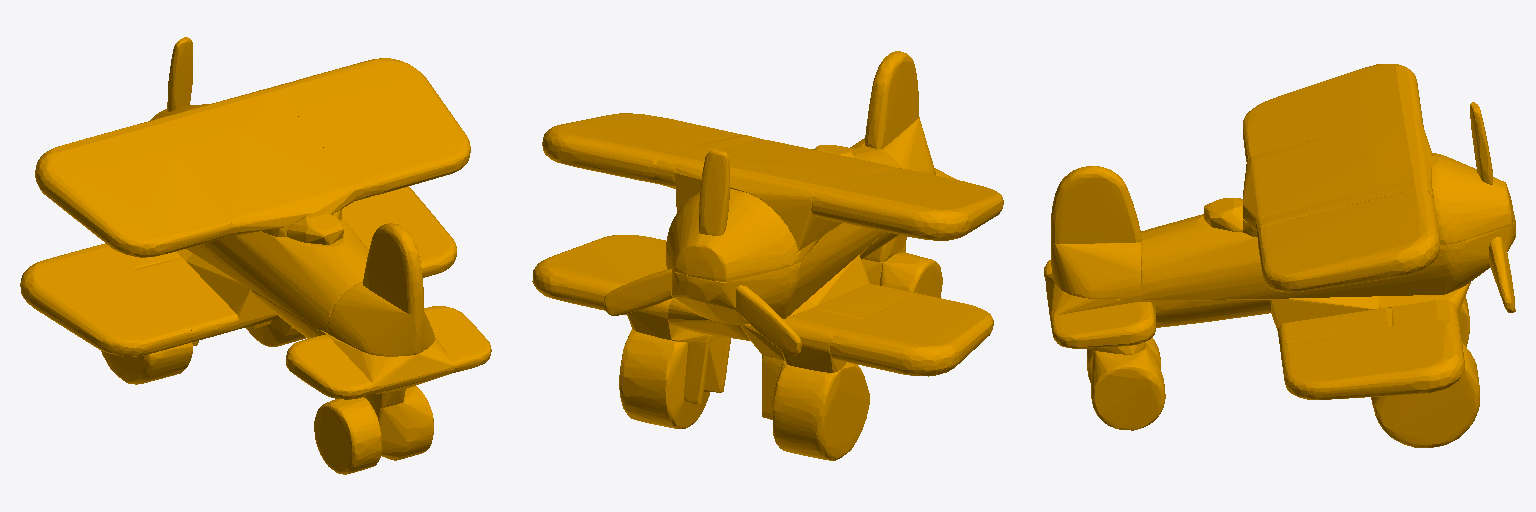
URDF robot description (072-a_toy_airplane):
<?xml version="1.0" encoding="UTF-8"?>
<robot name="072-a_toy_airplane">
	<link name="base">
		<collision>
			<geometry>
				<mesh filename="..\vhacd\072-a_toy_airplane_vhacd.obj" scale="1.0 1.0 1.0"/>
			</geometry>
			<origin xyz="0 0 0"/>
			<contact_coefficients mu="0.24" />
		</collision>
		<visual>
			<geometry>
				<mesh filename="..\vhacd\072-a_toy_airplane_vhacd.obj" scale="1.0 1.0 1.0"/>
			</geometry>
			<origin xyz="0 0 0"/>
		</visual>
		<inertial>
			<mass value="0"/>
			<inertia ixx="0.0" ixy="0.0" ixz="0.0" iyy="0.0" iyz="-0.0" izz="0.0" />
			<origin xyz="0.035724756924381595 0.030807398691307823 0.09092314339972936"/>
		</inertial>
	</link>
</robot>

--- What the picture shows (computed from the rendered views, not written in the file) ---
3 views of the same robot in one strip: view 1: azimuth 30°, elevation 25°; view 2: azimuth 150°, elevation 25°; view 3: azimuth 270°, elevation 25° (orthographic).
Robot: 072-a_toy_airplane — 1 links, 0 joints (none); root link base; default pose: all joints at 0.
Visible links, largest first — view 1: base; view 2: base; view 3: base.
Link boxes in pixels (<box>): base: <box>20,37,491,474</box>; base: <box>532,51,1003,460</box>; base: <box>1044,64,1515,447</box>.
Bounding box of the posed robot: 0.2559 × 0.2635 × 0.1839 m (x, y, z).
1 mesh visuals loaded from 1 distinct referenced files (1 OBJ).